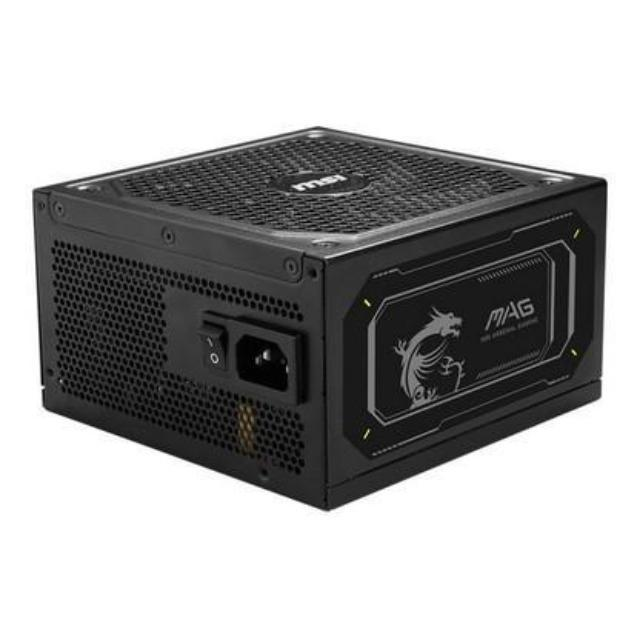PSU: (4, 107, 621, 536)
